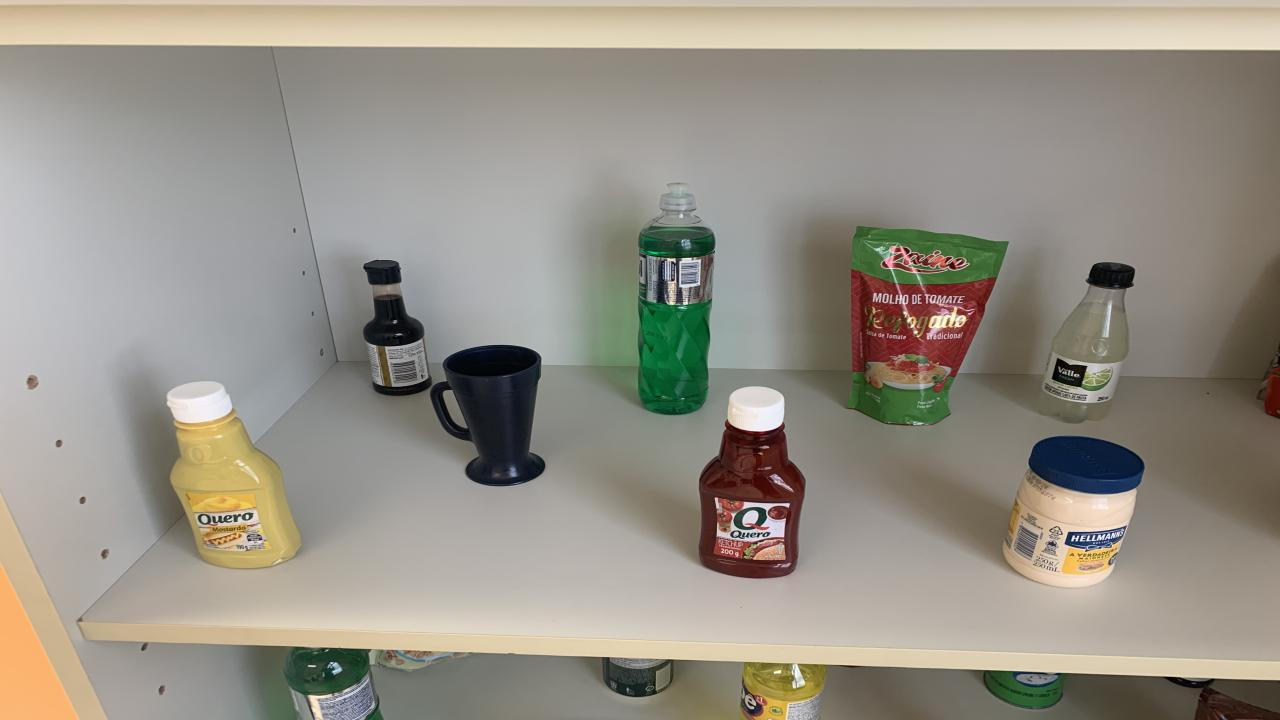Coffee-Pantry_Items: (1195, 686, 1280, 720)
Detergent-Cleanup_Items: (638, 182, 715, 414), (285, 647, 382, 720), (740, 662, 828, 720)
English_Sauce-Pantry_Items: (362, 261, 432, 396)
Flakes-Snacks: (375, 651, 468, 671)
Guarana_Can-Drinks: (602, 658, 672, 698)
Ketchup-Pantry_Items: (700, 386, 805, 578)
Mayonnaise-Pantry_Items: (1002, 437, 1145, 587)
Mustard-Pantry_Items: (168, 382, 300, 568)
Pringles-Snacks: (982, 671, 1065, 709)
Soda-Drinks: (1038, 262, 1135, 424)
Tomato_Sauce-Pantry_Items: (848, 227, 1008, 426)
